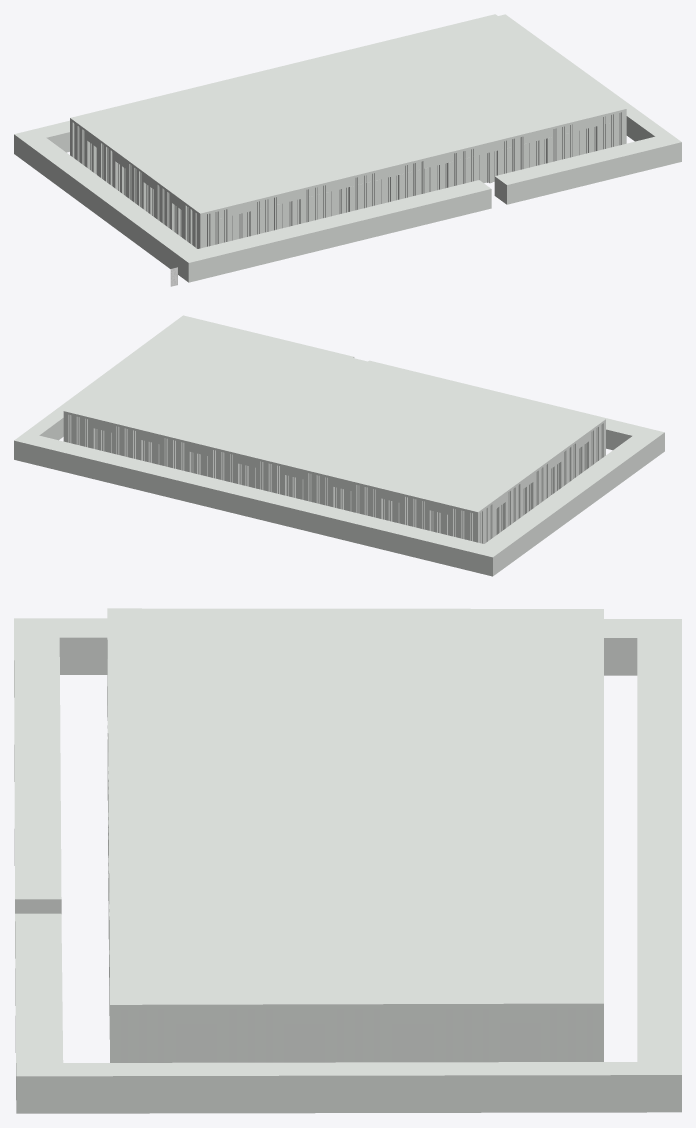
The picture shows the model from 3 angles, top to bottom: view 1: azimuth 30°, elevation 25°; view 2: azimuth 150°, elevation 25°; view 3: azimuth 270°, elevation 25°; orthographic projection. The views are drawn at different scales.
Parts seen in each view (by area): view 1: Mesh1 Model, Mesh2 Model; view 2: Mesh1 Model, Mesh2 Model; view 3: Mesh1 Model, Mesh2 Model.
Boxes of the visible parts, bbox=[...] form: Mesh1 Model: bbox=[70, 14, 626, 248]; Mesh2 Model: bbox=[14, 14, 681, 282]; Mesh1 Model: bbox=[63, 318, 605, 543]; Mesh2 Model: bbox=[14, 315, 664, 576]; Mesh1 Model: bbox=[107, 608, 603, 1062]; Mesh2 Model: bbox=[14, 618, 681, 1113].
Size of the model in its own units: 48.17 by 3.81 by 28.65.
2 materials, 2 textured.
